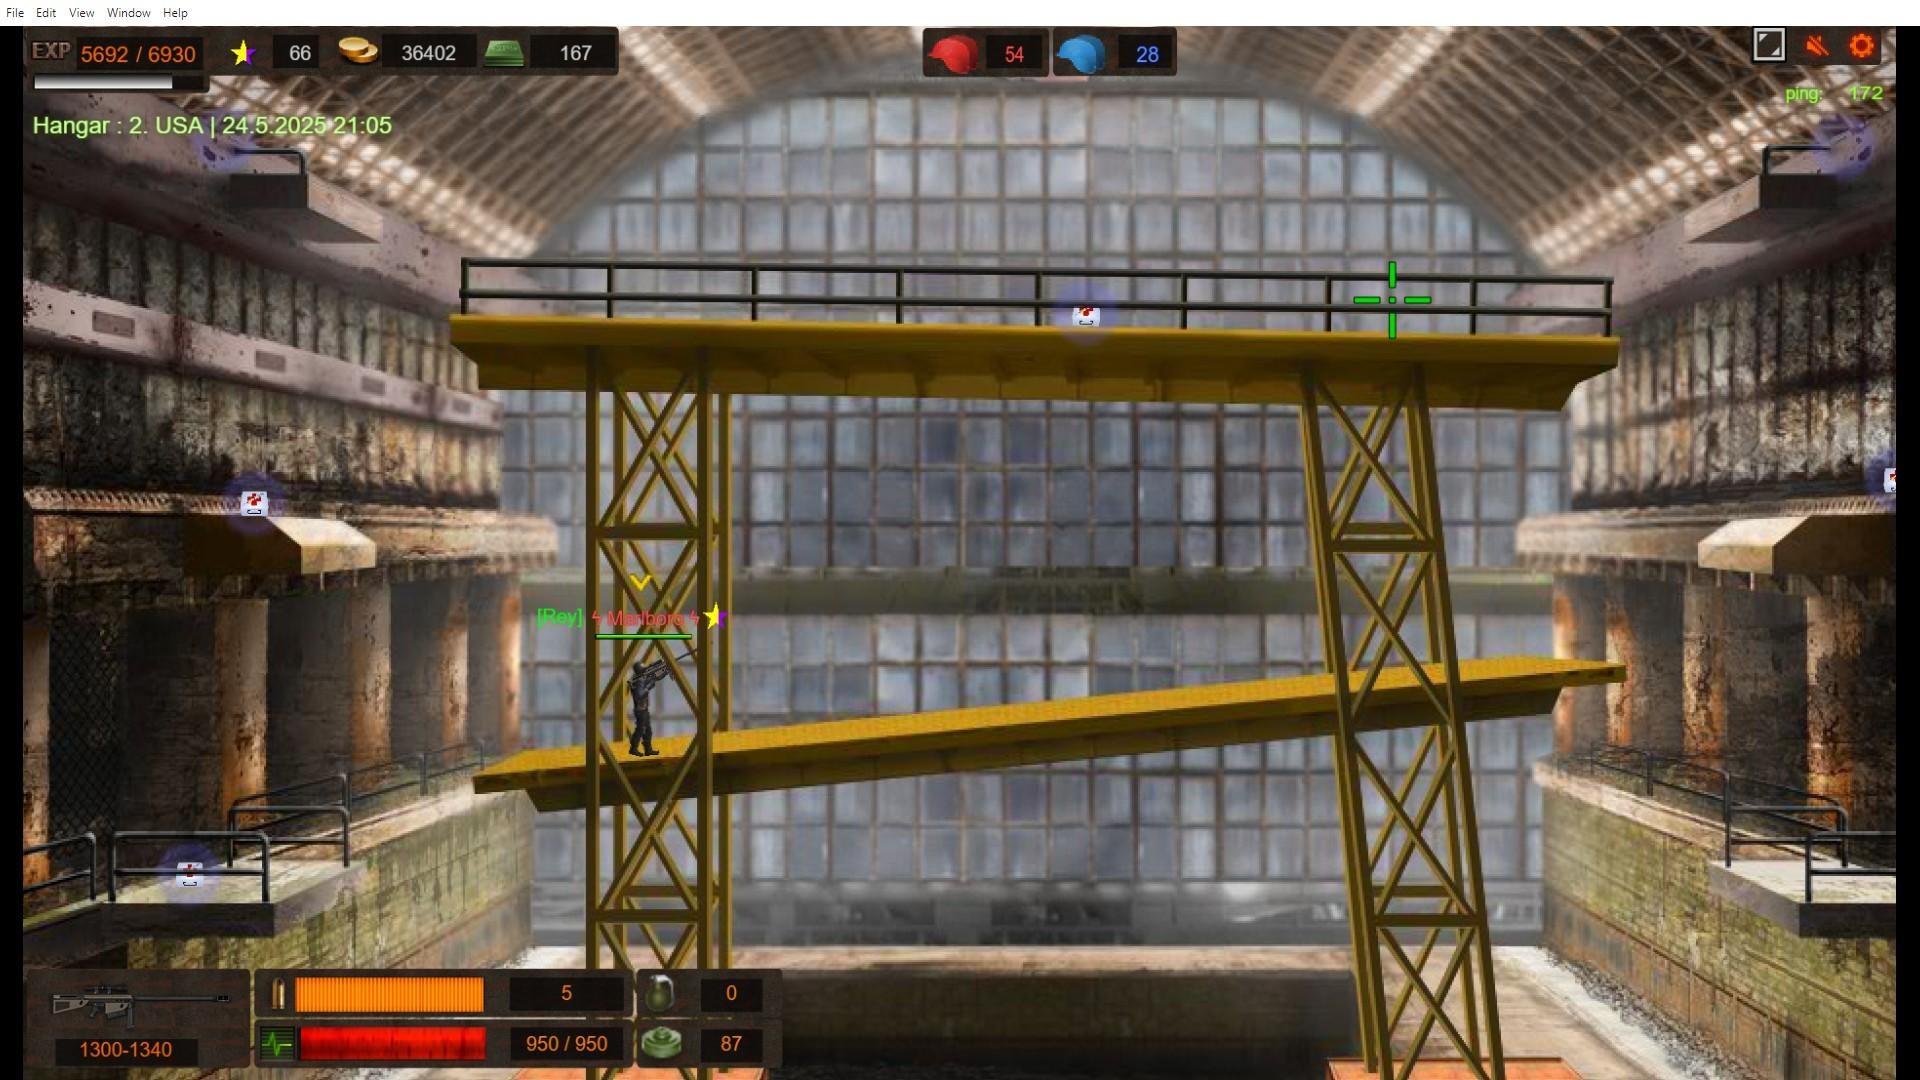enemy: (629, 662, 658, 757)
